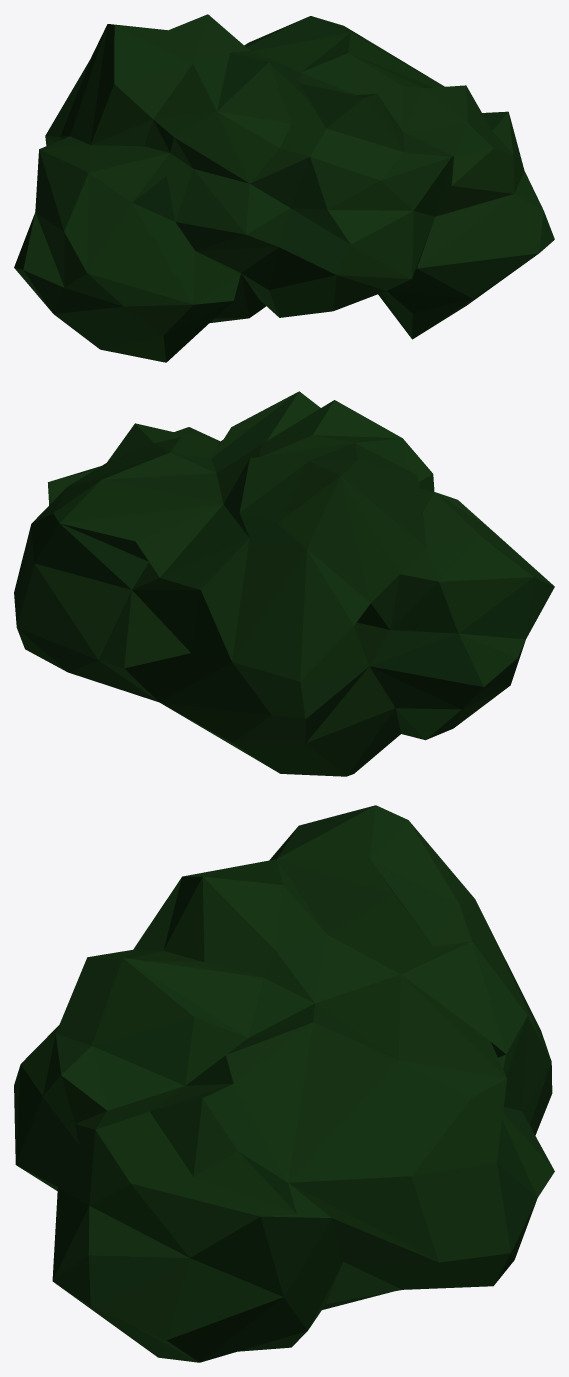
File: bush2.obj
3 views of the same model, one above another, from view 1: azimuth 30°, elevation 25°; view 2: azimuth 150°, elevation 25°; view 3: azimuth 270°, elevation 25° (orthographic). The views are drawn at different scales.
Parts seen in each view (by area): view 1: bush_2_Cube.024; view 2: bush_2_Cube.024; view 3: bush_2_Cube.024.
Boxes of the visible parts, x1,y1,x2,y2 form: bush_2_Cube.024: (14,14,554,362); bush_2_Cube.024: (14,391,554,776); bush_2_Cube.024: (14,805,554,1362).
Size of the model in its own units: 4.21 by 2.7 by 3.14.
